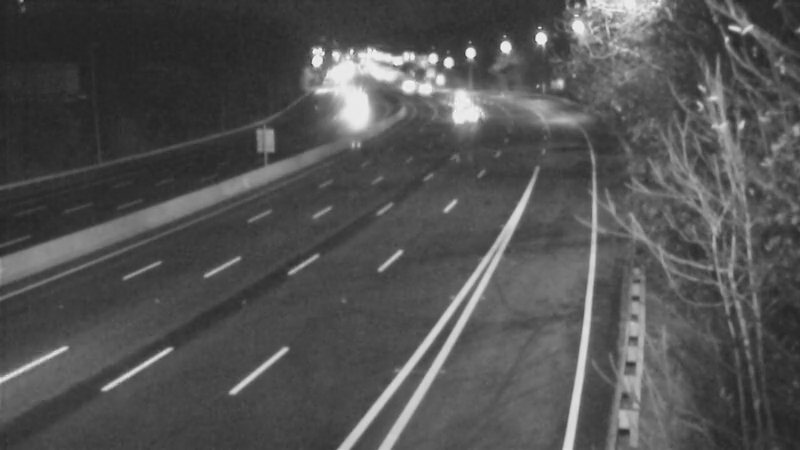vehicle: (381, 61, 431, 111), (397, 64, 447, 114), (434, 74, 484, 124), (447, 89, 497, 139), (328, 84, 378, 134)
